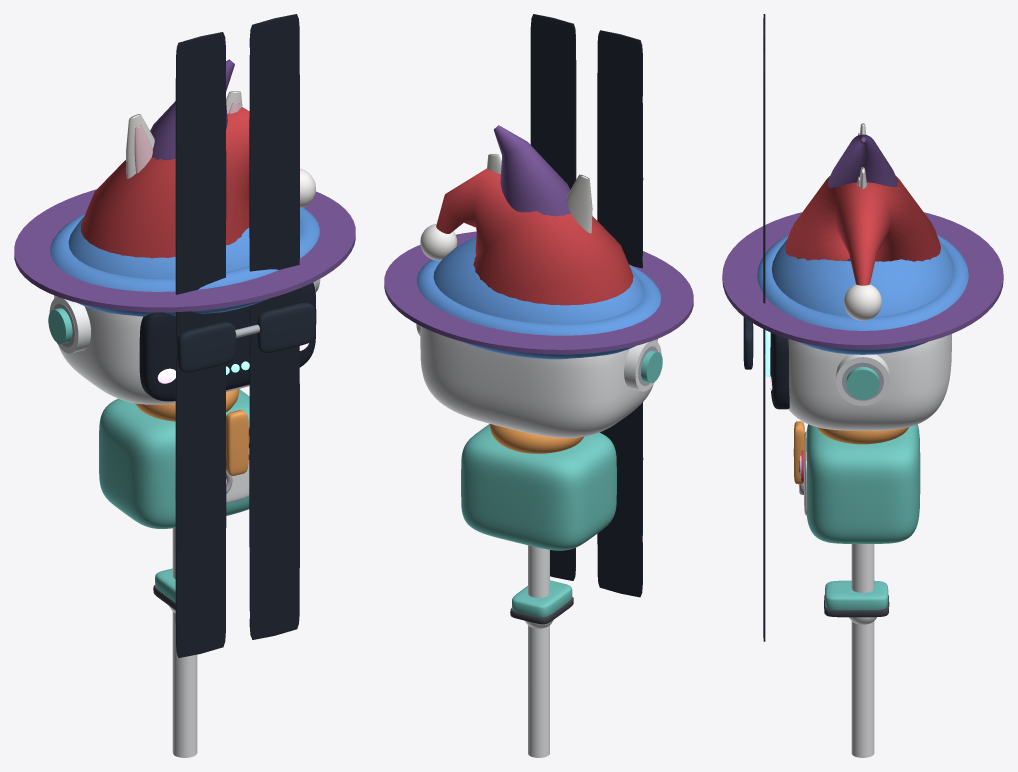
The model's file is pip.glb.
3 renders of one model, left to right at view 1: azimuth 30°, elevation 25°; view 2: azimuth 150°, elevation 25°; view 3: azimuth 270°, elevation 25°, orthographic. The views are drawn at different scales.
Parts seen in each view (by area): view 1: lidTopR, lidTopL, lidBotL, witch, lidBotR, santa, head, pelvis, beanie, sunglasses, thighL, scarf (+3 smaller); view 2: santa, head, pelvis, witch, beanie, lidBotL, lidBotR, lidTopL, thighL, footL, earL, scarf (+2 smaller); view 3: witch, beanie, pelvis, santa, head, thighL, earR, footL, scarf, lidTopR, lidBotR, sunglasses.
Boxes of the visible parts, <box> form: lidTopR: <box>249,333,299,639</box>; lidTopL: <box>175,355,226,657</box>; lidBotL: <box>175,32,226,345</box>; witch: <box>14,59,355,312</box>; lidBotR: <box>249,14,299,325</box>; santa: <box>81,107,315,258</box>; head: <box>54,281,316,404</box>; pelvis: <box>99,389,249,528</box>; beanie: <box>50,207,319,316</box>; sunglasses: <box>177,302,315,372</box>; thighL: <box>172,528,197,757</box>; scarf: <box>135,389,248,475</box>; santa: <box>420,168,633,305</box>; head: <box>420,326,657,437</box>; pelvis: <box>461,424,616,550</box>; witch: <box>384,125,693,354</box>; beanie: <box>417,237,660,359</box>; lidBotL: <box>597,30,643,268</box>; lidBotR: <box>530,14,576,189</box>; lidTopL: <box>597,402,643,597</box>; thighL: <box>528,545,549,757</box>; footL: <box>510,580,573,624</box>; earL: <box>624,340,662,391</box>; scarf: <box>489,424,583,453</box>; witch: <box>722,134,1003,349</box>; beanie: <box>757,235,968,354</box>; pelvis: <box>798,424,920,543</box>; santa: <box>785,176,940,320</box>; head: <box>770,332,951,430</box>; thighL: <box>851,544,874,757</box>; earR: <box>836,354,889,405</box>; footL: <box>824,580,889,617</box>; scarf: <box>793,421,909,484</box>; lidTopR: <box>763,350,765,641</box>; lidBotR: <box>763,47,765,353</box>; sunglasses: <box>743,317,753,369</box>.
Bounding box in the file's own units: 1.04 × 2.48 × 0.884.
